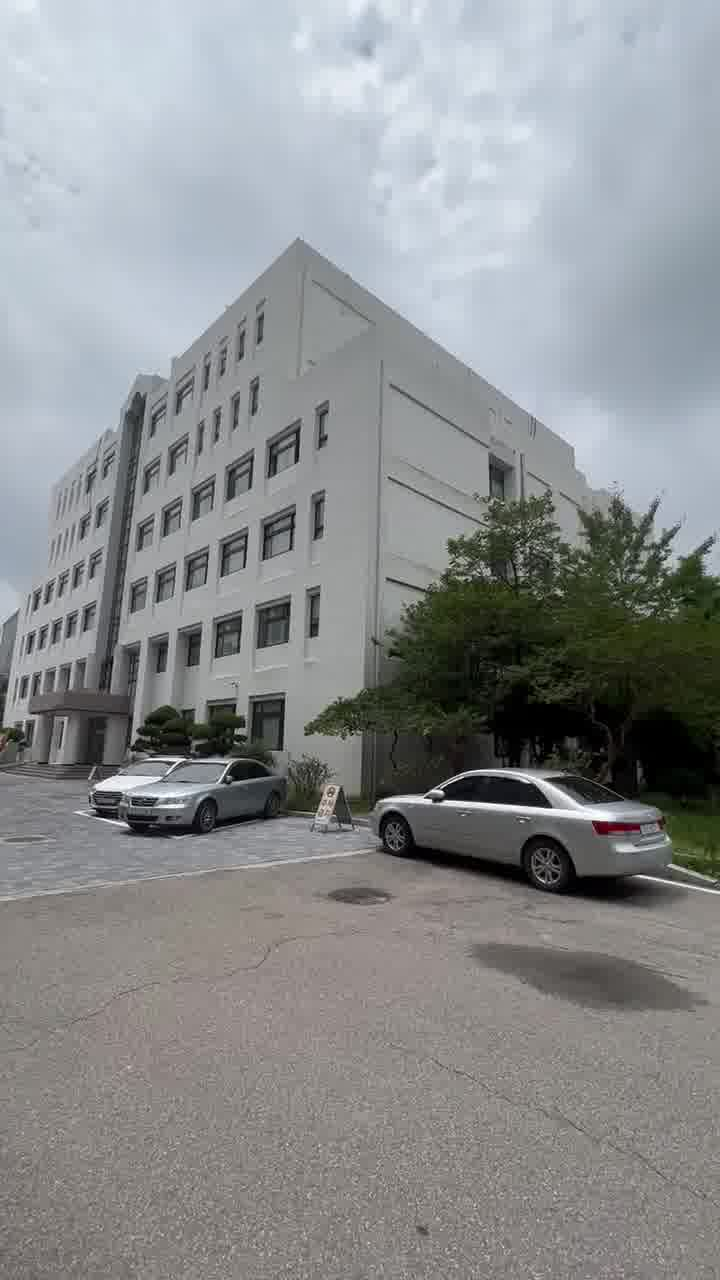low: (18, 248, 390, 734)
